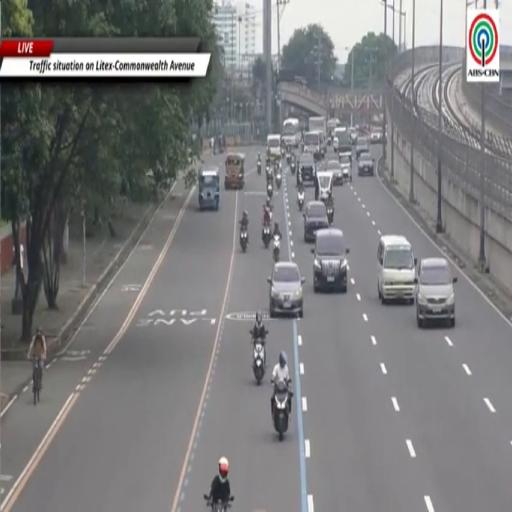bus: (282, 119, 300, 148)
car: (415, 258, 457, 327), (378, 235, 416, 303), (312, 228, 349, 293), (268, 262, 305, 317), (304, 201, 330, 243), (299, 154, 316, 184), (327, 160, 344, 185), (358, 153, 374, 175), (340, 156, 351, 182), (356, 137, 369, 159), (339, 144, 352, 161), (370, 128, 382, 143), (349, 127, 357, 145)
jeepney: (198, 166, 220, 210), (225, 154, 245, 189), (267, 135, 281, 162)
motorcycle: (273, 380, 291, 440), (251, 331, 266, 385), (204, 494, 234, 511), (262, 226, 271, 248), (273, 235, 280, 262), (240, 229, 248, 252), (327, 205, 333, 226), (298, 191, 304, 212), (276, 171, 282, 190), (267, 183, 273, 199), (266, 165, 272, 180), (291, 160, 296, 174), (257, 162, 261, 174), (286, 153, 290, 165), (281, 148, 285, 158)
truck: (309, 117, 326, 155)
